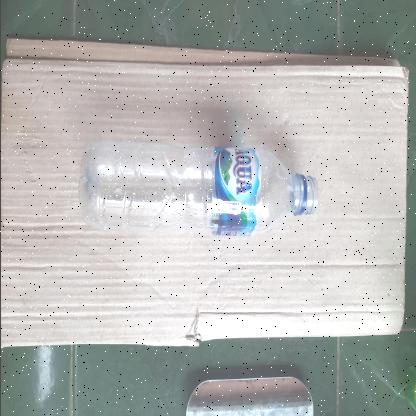Plastic Bottle: (69, 141, 338, 243)
